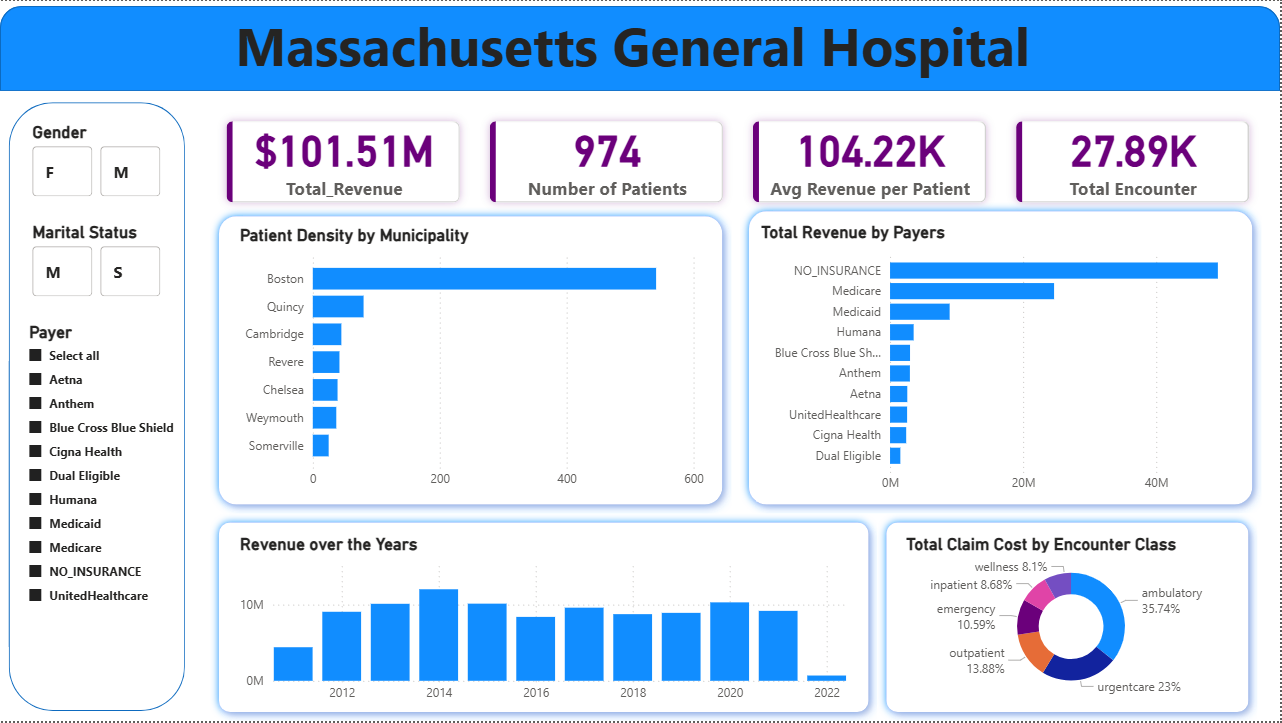

Layout of this report page (visuals, bound fields, positions):
{"tool":"powerbi","page":{"name":"Massachusetts_Dashboard","canvas":[1280,720],"ordinal":0},"visuals":[{"type":"shape","box":[0,5,1280,85],"z":0},{"type":"shape","box":[8.8,101.2,176.2,608.8],"z":1000},{"type":"textbox","box":[198.8,2.5,882.5,90],"z":2000},{"type":"advancedSlicerVisual","title":"Gender","fields":{"Values":["patients.gender"]},"box":[27.5,121.2,138.8,80],"z":3000},{"type":"advancedSlicerVisual","title":"Marital Status","fields":{"Values":["patients.marital_status"]},"box":[27.5,221.2,138.8,80],"z":4000},{"type":"cardVisual","fields":{"Data":["encounters.Total_Revenue","patients.Number of Patients","encounters.Avg  Revenue per Patient","procedures.Total Encounter"]},"box":[198.8,92.5,1081.2,137.5],"z":5000},{"type":"shape","box":[878,512.5,380,207.5],"z":6000},{"type":"donutChart","title":"Total Claim Cost by Encounter Class","fields":{"Category":["encounters.encounter_class"],"Y":["Sum(encounters.total_claim_cost)"]},"box":[901.7,532.5,340,167.5],"z":7000},{"type":"shape","box":[740,201.2,521.2,311.2],"z":8000,"group":"g1"},{"type":"shape","box":[210,206.2,521.2,306.2],"z":8000,"group":"g2"},{"type":"slicer","fields":{"Values":["payers.name"]},"box":[16.2,316.2,162.5,300],"z":8000},{"type":"group","id":"g1","title":"Group 1","box":[740,201.2,521.2,311.2],"z":9000},{"type":"group","id":"g2","title":"Group 2","box":[210,206.2,521.2,306.2],"z":10000},{"type":"clusteredBarChart","title":"Total Revenue by Payers","fields":{"Category":["payers.name"],"Y":["encounters.Total_Revenue"]},"box":[756.2,220.8,483.8,279.3],"z":10000,"group":"g1"},{"type":"clusteredBarChart","title":"Patient Density by Municipality","fields":{"Category":["patients.city"],"Y":["patients.Number of Patients"]},"box":[235,223.7,473.8,272.5],"z":10000,"group":"g2"},{"type":"shape","box":[210,512.5,667.5,207.5],"z":11000},{"type":"clusteredColumnChart","title":"Revenue over the Years","fields":{"Category":["encounters.start.Variation.Date Hierarchy.Year"],"Y":["encounters.Total_Revenue"]},"box":[235,532.5,616.2,177.5],"z":11001}]}

Visuals, with their boxes in screenshot pixels (x1, y1, x2, y2), scaled from the page's 1280x720 canvas onto the 1282x723 screenshot:
shape: {"left": 0, "top": 5, "right": 1281, "bottom": 90}
shape: {"left": 9, "top": 102, "right": 185, "bottom": 713}
textbox: {"left": 199, "top": 3, "right": 1083, "bottom": 93}
"Gender" advancedSlicerVisual: {"left": 28, "top": 122, "right": 167, "bottom": 202}
"Marital Status" advancedSlicerVisual: {"left": 28, "top": 222, "right": 167, "bottom": 302}
cardVisual - encounters.Total_Revenue x patients.Number of Patients: {"left": 199, "top": 93, "right": 1281, "bottom": 231}
shape: {"left": 879, "top": 515, "right": 1260, "bottom": 722}
"Total Claim Cost by Encounter Class" donutChart: {"left": 903, "top": 535, "right": 1244, "bottom": 703}
shape: {"left": 741, "top": 202, "right": 1263, "bottom": 515}
shape: {"left": 210, "top": 207, "right": 732, "bottom": 515}
slicer - payers.name: {"left": 16, "top": 318, "right": 179, "bottom": 619}
"Group 1" group: {"left": 741, "top": 202, "right": 1263, "bottom": 515}
"Group 2" group: {"left": 210, "top": 207, "right": 732, "bottom": 515}
"Total Revenue by Payers" clusteredBarChart: {"left": 757, "top": 222, "right": 1242, "bottom": 502}
"Patient Density by Municipality" clusteredBarChart: {"left": 235, "top": 225, "right": 710, "bottom": 498}
shape: {"left": 210, "top": 515, "right": 879, "bottom": 722}
"Revenue over the Years" clusteredColumnChart: {"left": 235, "top": 535, "right": 853, "bottom": 713}
